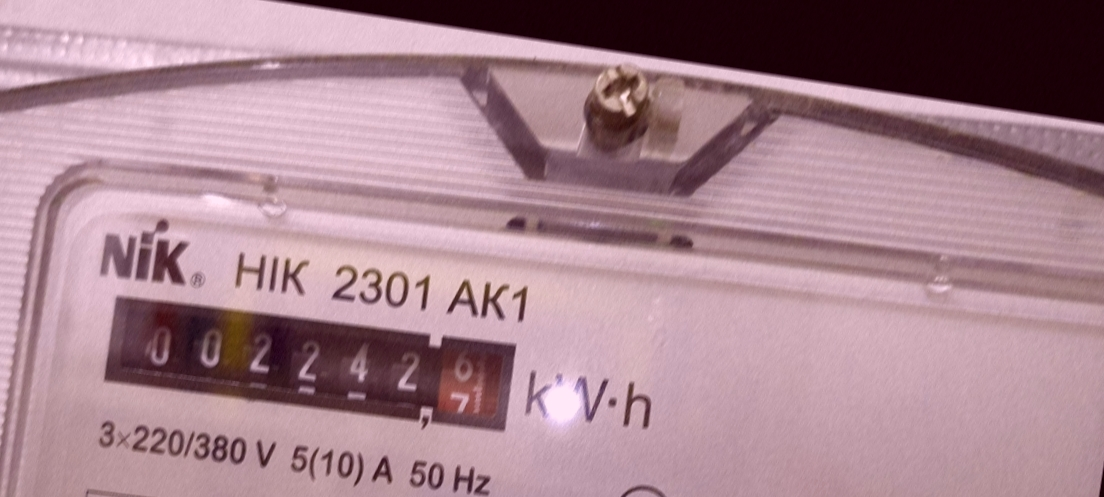0: (193, 323, 224, 369), (144, 321, 173, 368), (245, 329, 274, 375)
2: (391, 347, 422, 394), (293, 336, 322, 383)
4: (343, 338, 372, 384)
6: (448, 347, 476, 383)
7: (443, 389, 470, 414)
screen: (89, 272, 534, 457)
